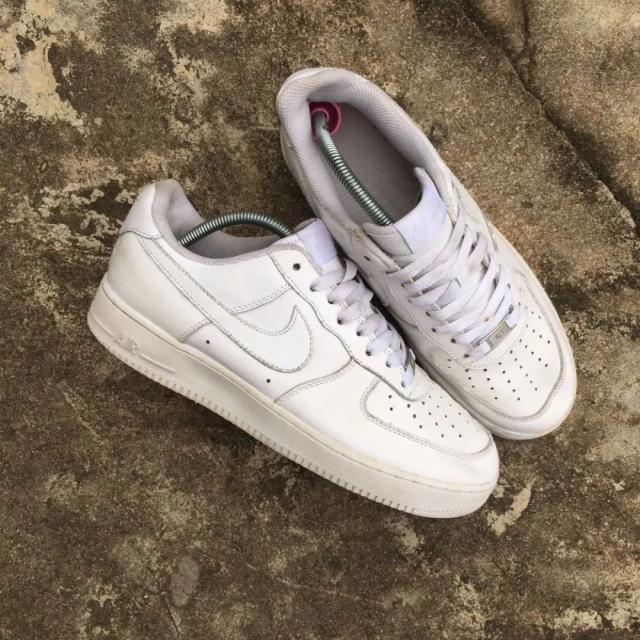nike original air force: (76, 189, 508, 528), (276, 64, 584, 446)
